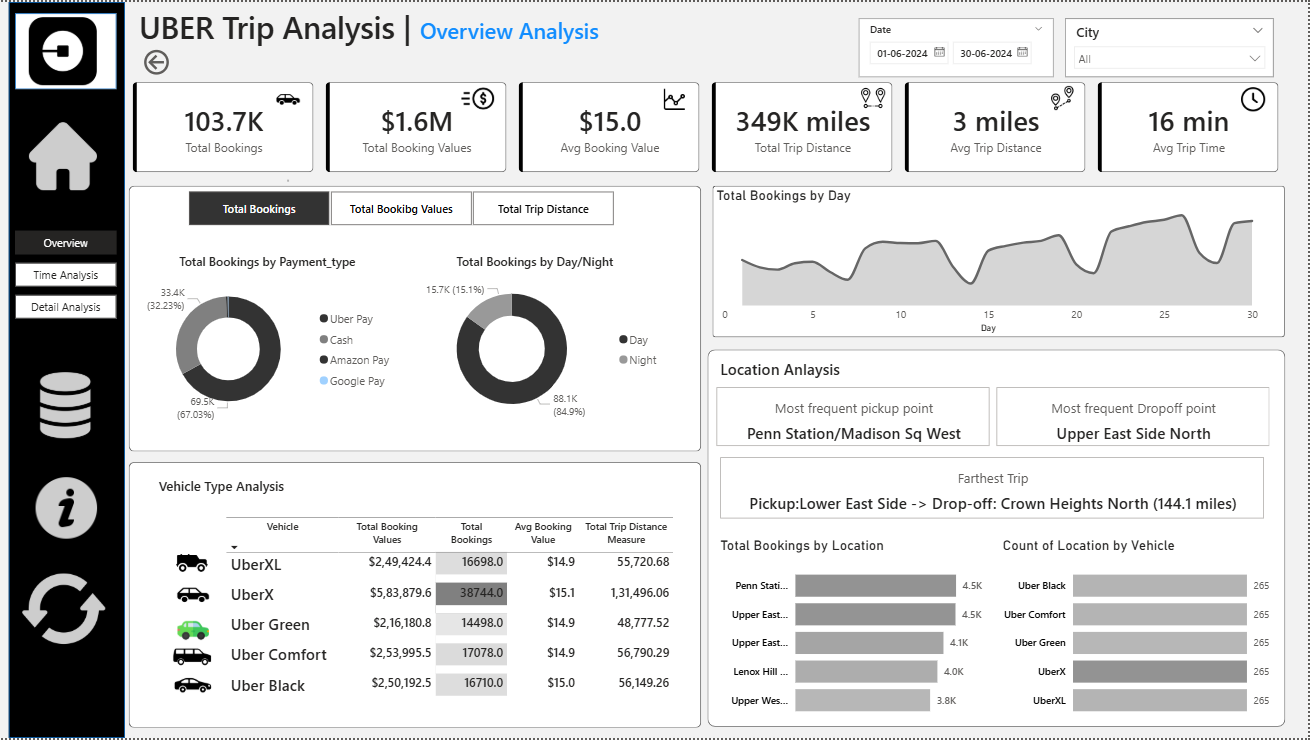

What the dashboard file says about the page in this screenshot:
{"tool":"powerbi","page":{"name":"Overview","canvas":[1600,900],"ordinal":0},"visuals":[{"type":"shape","box":[10.3,0,142,900],"z":0},{"type":"textbox","box":[164.7,0,574.6,60],"z":1000},{"type":"cardVisual","fields":{"Data":["Trip Details.Total Bookings","Trip Details.Total Bookibg Values","Trip Details.Avg Booking Value","Trip Details.Total Trip Distance","Trip Details.Avg Trip Distance","Trip Details.Avg Trip Time"]},"box":[157,93,1415,120],"z":2000},{"type":"image","box":[559.2,92.6,50,50],"z":3000},{"type":"shape","box":[158,225,700,325],"z":4000},{"type":"image","box":[1042.9,97.8,49.7,39.5],"z":5000},{"type":"image","box":[1274.4,97.8,49.7,39.5],"z":6000},{"type":"image","box":[157.8,212.7,389.4,12],"z":7000},{"type":"slicer","fields":{"Values":["Dynamic Measure.Dynamic Measure"]},"box":[205.4,225,569.6,55.4],"z":8000},{"type":"image","box":[1507.7,99.5,49.7,39.5],"z":9000},{"type":"image","box":[327.6,99.5,49.7,39.5],"z":10000},{"type":"image","box":[799.3,99.5,49.7,39.5],"z":11000},{"type":"donutChart","fields":{"Y":["Trip Details.Total Bookings"],"Category":["Trip Details.Payment_type"]},"box":[164.3,307.1,326.8,214.3],"z":12000},{"type":"donutChart","fields":{"Y":["Trip Details.Total Bookings"],"Category":["Trip Details.Day/Night"]},"box":[491.1,307.1,326.8,214.3],"z":13000},{"type":"shape","box":[157.1,562.5,700,325],"z":14000},{"type":"pivotTable","fields":{"Rows":["Trip Details.Vehicle"],"Values":["Trip Details.Total Booking Values","Trip Details.Total Bookings","Trip Details.Avg Booking Value","Trip Details.Total Trip Distance Measure"]},"box":[271.4,625,575,241.1],"z":15000},{"type":"image","box":[183.9,744.6,105.4,48.2],"z":16000},{"type":"image","box":[183.9,805.4,105.4,60],"z":17000},{"type":"image","box":[182.1,662.5,105.4,48.2],"z":18000},{"type":"image","box":[182.1,769.6,105.4,60.7],"z":19000},{"type":"image","box":[183.9,700,105.4,50],"z":20000},{"type":"card","fields":{"Values":["Trip Details.Vehicle Type"]},"box":[135.7,576.8,269.6,35.7],"z":21000},{"type":"shape","box":[871.4,224.7,699.8,185.2],"z":22000},{"type":"areaChart","fields":{"Category":["Calender Table.Date.Variation.Date Hierarchy.Day"],"Y":["Trip Details.Total Bookings"]},"box":[871.4,226.8,675,183.9],"z":23000},{"type":"shape","box":[864.5,425.4,706.7,461.4],"z":24000},{"type":"actionButton","box":[170.7,52.8,99.3,40.3],"z":25000},{"type":"cardVisual","fields":{"Data":["Trip Details.Most frequent pickup point","Trip Details.Most frequent Dropoff point"]},"box":[871.4,466.6,686.1,82.3],"z":26000},{"type":"cardVisual","fields":{"Data":["Trip Details.Farthest Trip"]},"box":[876.5,552.3,675.8,85.8],"z":27000},{"type":"barChart","fields":{"Category":["Location Table.Location"],"Y":["Trip Details.Total Bookings"]},"box":[876.5,653.5,334.5,233.3],"z":28000},{"type":"barChart","fields":{"Category":["Trip Details.Vehicle"],"Y":["CountNonNull(Location Table.Location)"]},"box":[1221.3,653.5,336.2,233.3],"z":29000},{"type":"textbox","box":[876.5,430.5,173.2,36],"z":30000},{"type":"slicer","fields":{"Values":["Calender Table.Date"]},"box":[1049.7,20.6,238.4,72],"z":31000},{"type":"slicer","fields":{"Values":["Location Table.City"]},"box":[1301.9,20.6,255.6,72],"z":32000},{"type":"shape","box":[18.6,14,124.1,93.1],"z":33000},{"type":"image","box":[0,14,153.6,93.1],"z":34000},{"type":"pageNavigator","box":[18.5,279.9,124.2,107.5],"z":35000},{"type":"image","box":[31,142.7,93.1,93.1],"z":36000},{"type":"image","box":[29.7,448.6,101.9,90.8],"z":37000},{"type":"image","box":[27.8,576.5,107.5,85.3],"z":38000},{"type":"image","box":[18.5,685.8,118.6,111.2],"z":39000}]}

Visuals, with their boxes on the page's 1600x900 design canvas (x1, y1, x2, y2). These are canvas units, not pixel positions in the 1310x740 screenshot, which may show the page scaled, cropped or inside an application window:
shape: (10,0,152,900)
textbox: (165,0,739,60)
cardVisual - Trip Details.Total Bookings x Trip Details.Total Bookibg Values: (157,93,1572,213)
image: (559,93,609,143)
shape: (158,225,858,550)
image: (1043,98,1093,137)
image: (1274,98,1324,137)
image: (158,213,547,225)
slicer - Dynamic Measure.Dynamic Measure: (205,225,775,280)
image: (1508,100,1557,139)
image: (328,100,377,139)
image: (799,100,849,139)
donutChart - Trip Details.Total Bookings x Trip Details.Payment_type: (164,307,491,521)
donutChart - Trip Details.Total Bookings x Trip Details.Day/Night: (491,307,818,521)
shape: (157,562,857,888)
pivotTable - Trip Details.Vehicle x Trip Details.Total Booking Values: (271,625,846,866)
image: (184,745,289,793)
image: (184,805,289,865)
image: (182,662,288,711)
image: (182,770,288,830)
image: (184,700,289,750)
card - Trip Details.Vehicle Type: (136,577,405,612)
shape: (871,225,1571,410)
areaChart - Calender Table.Date.Variation.Date Hierarchy.Day x Trip Details.Total Bookings: (871,227,1546,411)
shape: (864,425,1571,887)
actionButton: (171,53,270,93)
cardVisual - Trip Details.Most frequent pickup point x Trip Details.Most frequent Dropoff point: (871,467,1558,549)
cardVisual - Trip Details.Farthest Trip: (876,552,1552,638)
barChart - Location Table.Location x Trip Details.Total Bookings: (876,654,1211,887)
barChart - Trip Details.Vehicle x CountNonNull(Location Table.Location): (1221,654,1558,887)
textbox: (876,430,1050,466)
slicer - Calender Table.Date: (1050,21,1288,93)
slicer - Location Table.City: (1302,21,1558,93)
shape: (19,14,143,107)
image: (0,14,154,107)
pageNavigator: (18,280,143,387)
image: (31,143,124,236)
image: (30,449,132,539)
image: (28,576,135,662)
image: (18,686,137,797)
